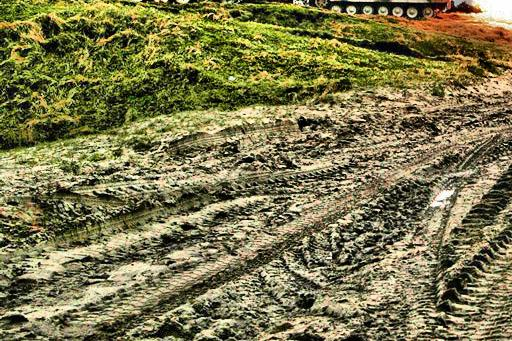tanks: (305, 1, 453, 19), (153, 1, 193, 4), (208, 1, 241, 3), (131, 1, 142, 2)
